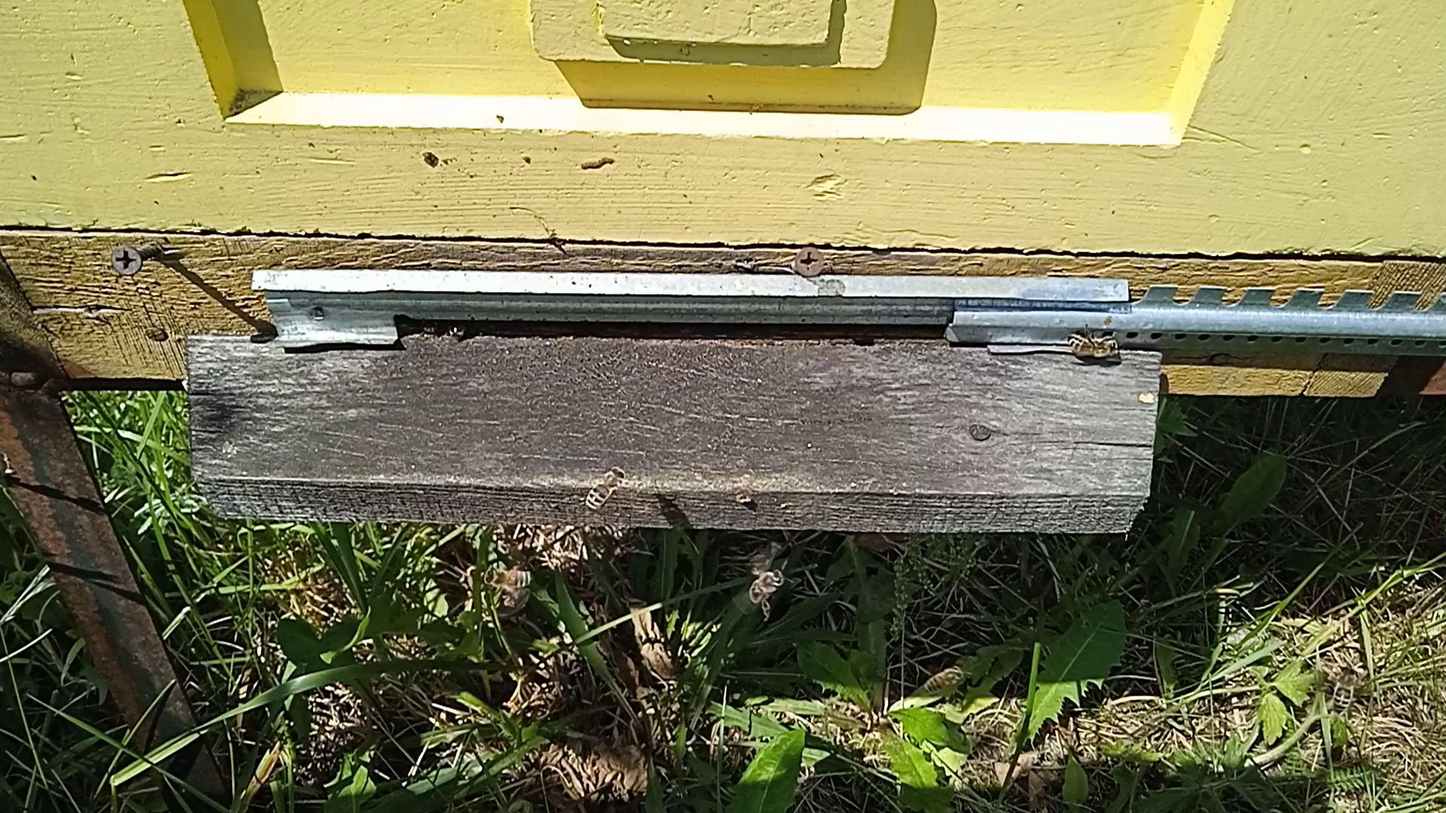worker-bee: (585, 465, 627, 510), (1065, 330, 1124, 360), (481, 565, 535, 591), (748, 569, 786, 605), (1332, 665, 1359, 713), (923, 665, 963, 696)
